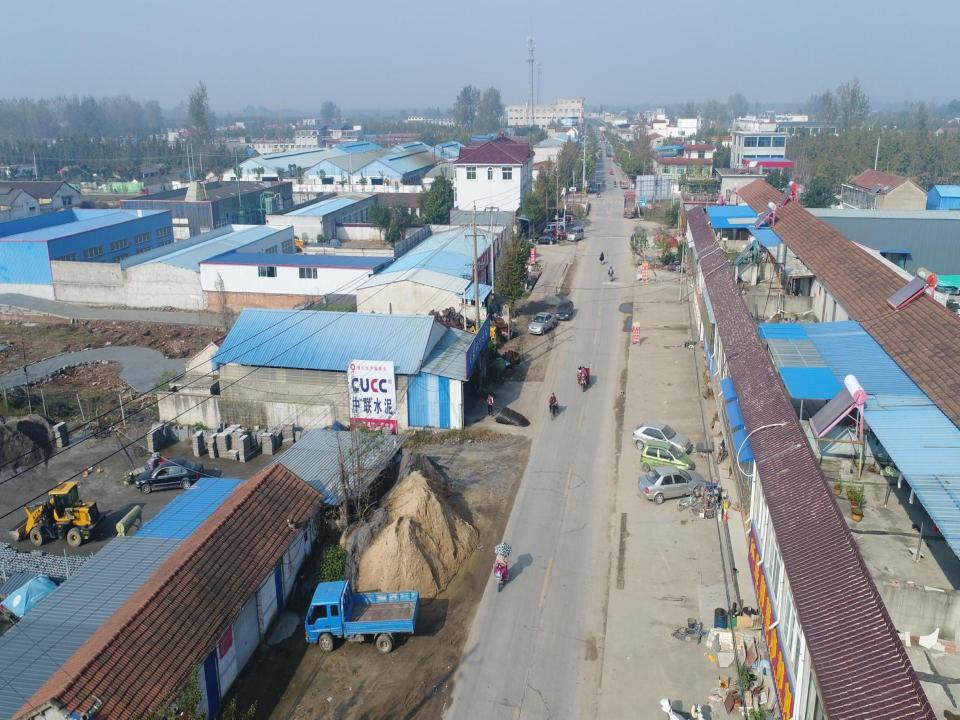car: (637, 467, 708, 505), (134, 459, 204, 494), (632, 421, 692, 455), (639, 440, 692, 472), (528, 312, 555, 336), (555, 301, 573, 321), (654, 234, 678, 247), (531, 234, 556, 246), (544, 230, 566, 240), (560, 215, 573, 227)
truck: (305, 580, 419, 652), (8, 481, 106, 547), (622, 191, 635, 220), (605, 146, 612, 158), (620, 180, 628, 188)
van: (566, 226, 584, 242), (542, 224, 560, 236), (547, 218, 565, 229)
